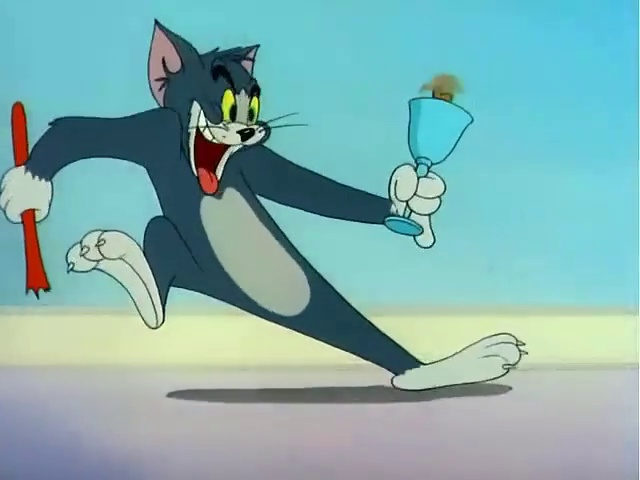tom: (8, 25, 563, 442)
